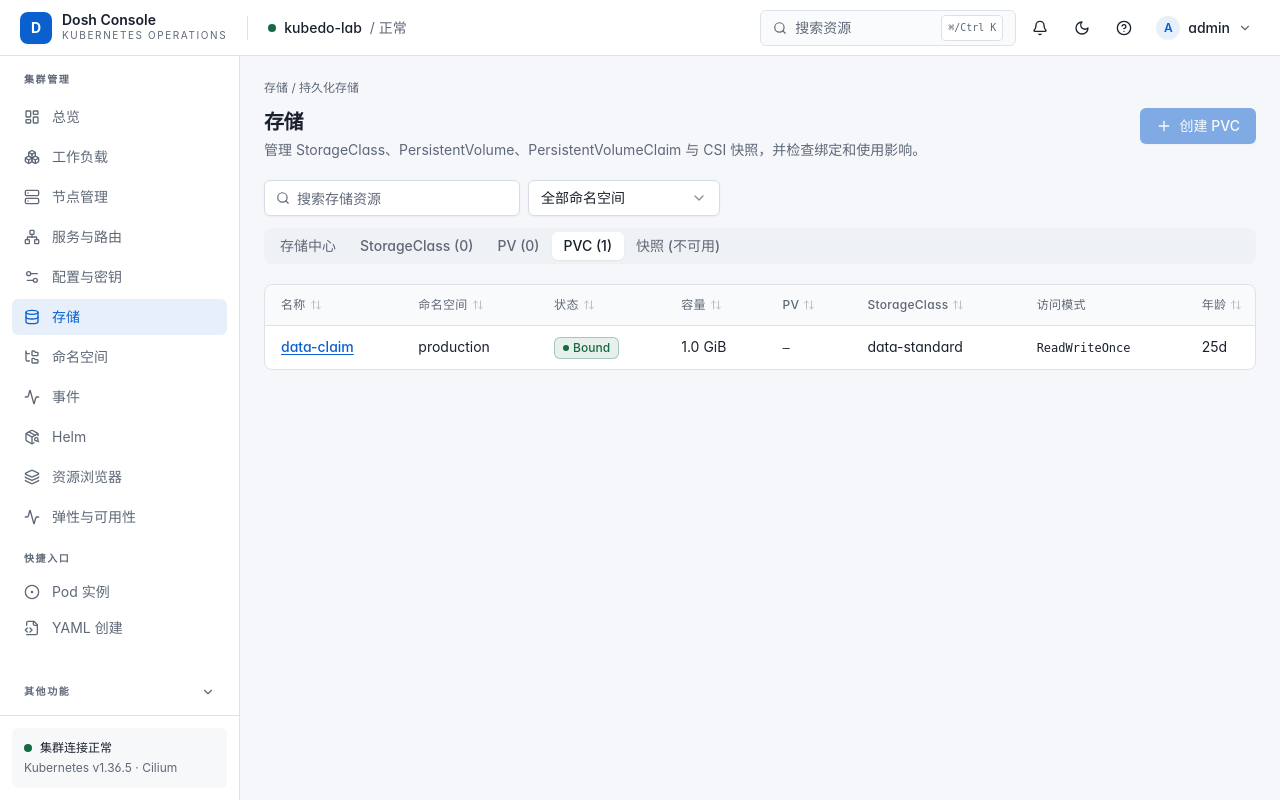
it: dosh application › keeps PVC data visible when StorageClass access is forbidden
Expected: the cell "data-claim" is shown, [265,325,402,369]
Expected: the text "没有访问权限" is not shown
Step 1. Press the mouse on the tab "StorageClass (0)" → (417, 246), box [348,232,486,260]
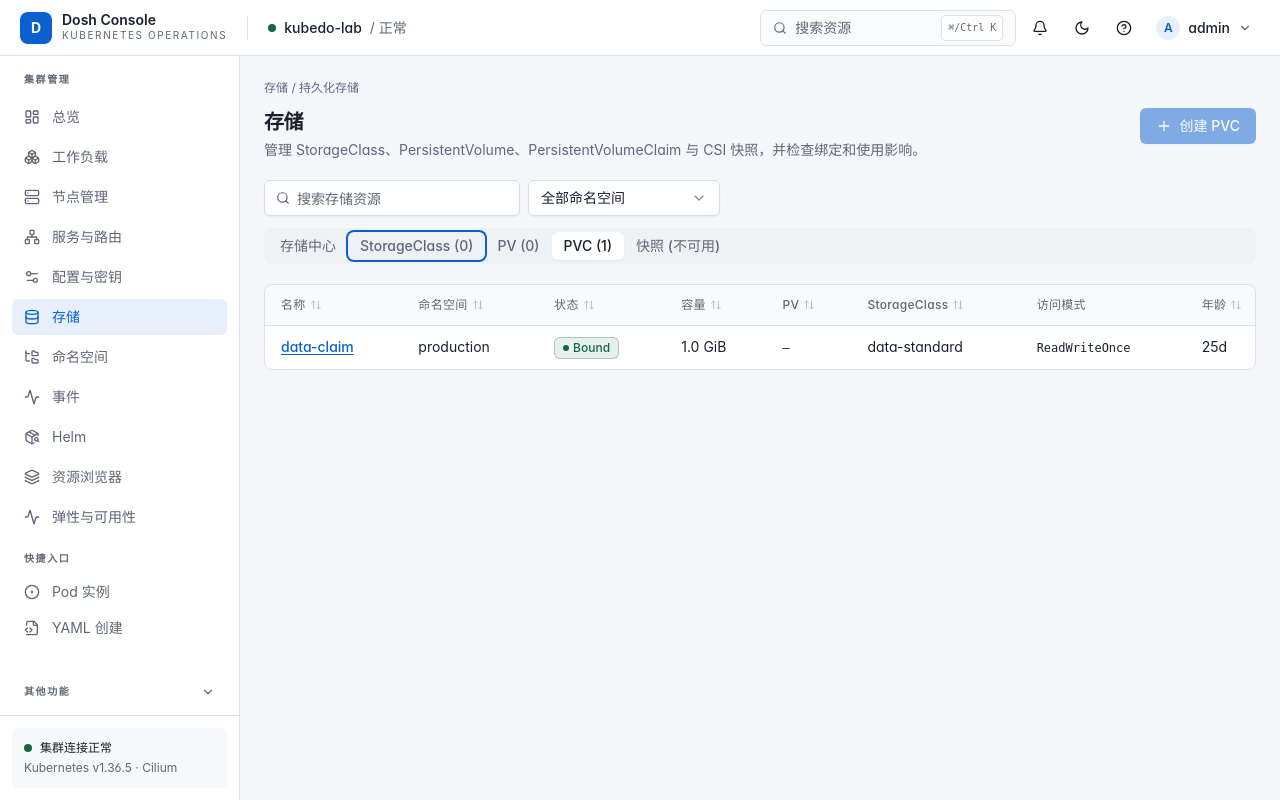
Step 2. Click the tab "StorageClass (0)" → (417, 246), box [348,232,486,260]
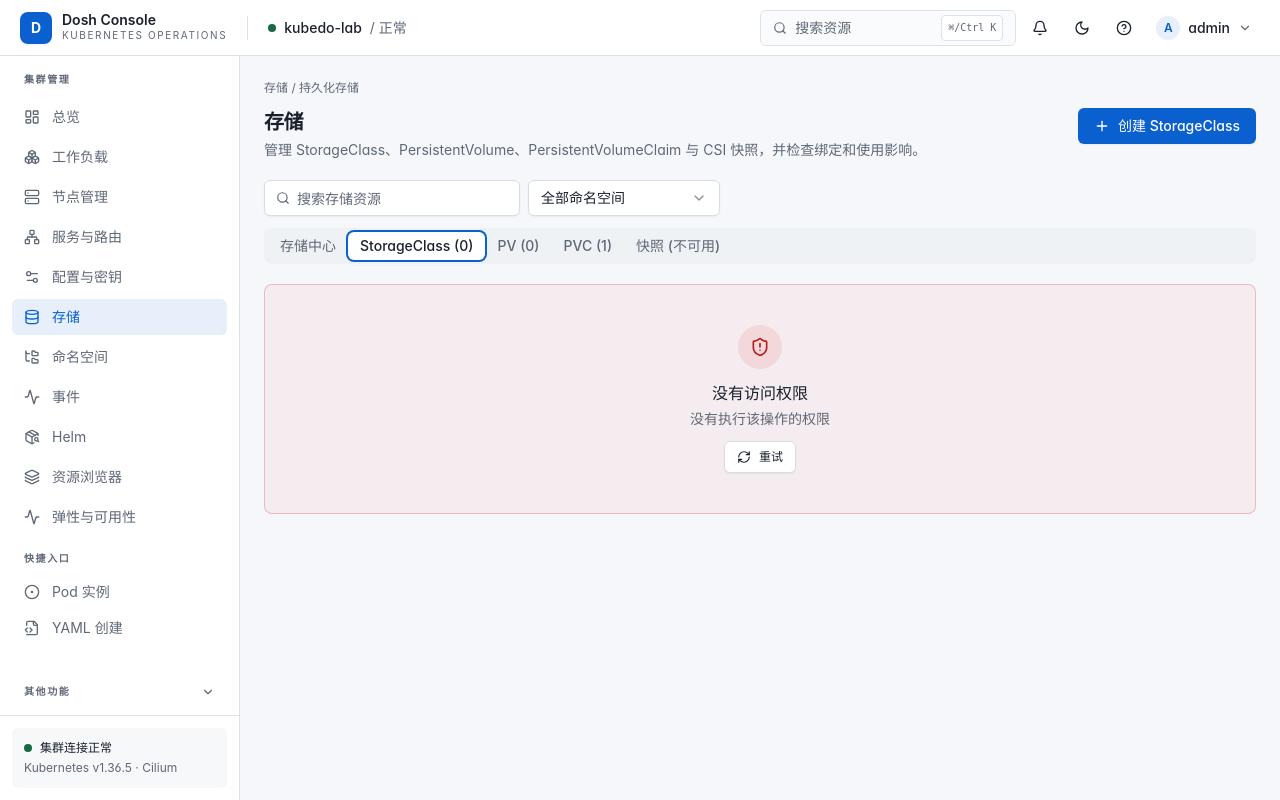
Expected: the text "没有访问权限" is shown, [712,383,808,403]
